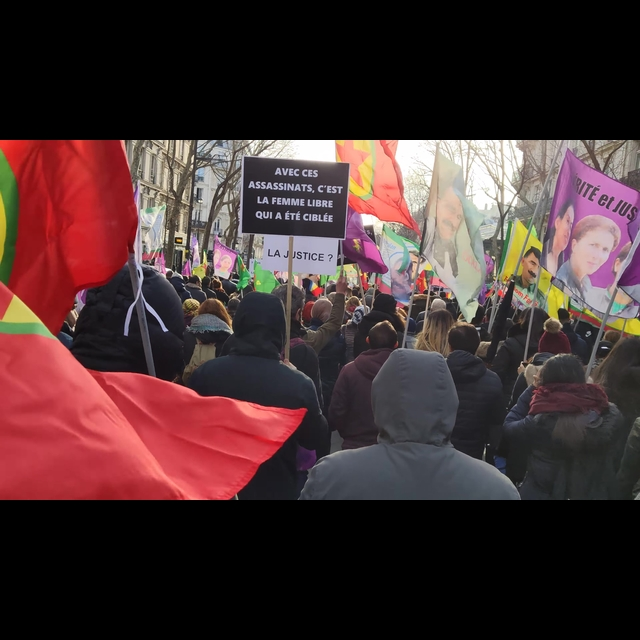APO: (520, 244, 541, 290)
PKK: (336, 139, 422, 238)
